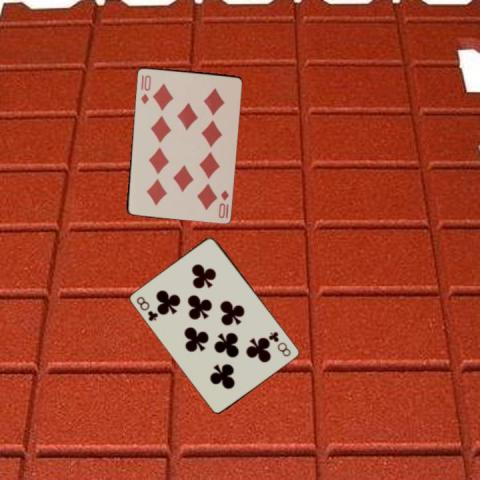10d: (137, 72, 152, 106), (215, 187, 230, 219)
8c: (133, 293, 160, 323), (266, 329, 292, 358)
